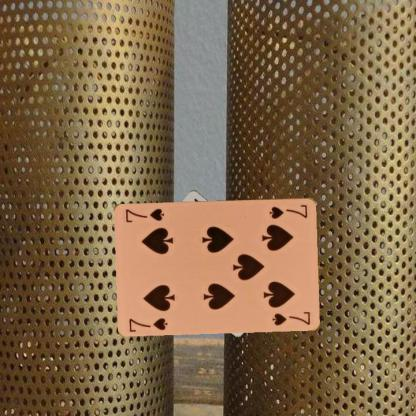7s: (266, 202, 309, 220), (127, 315, 170, 333)
